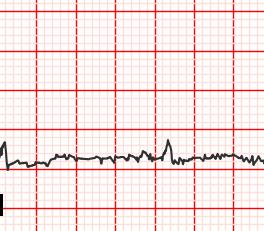Poor R Progression: (160, 135, 176, 166)
